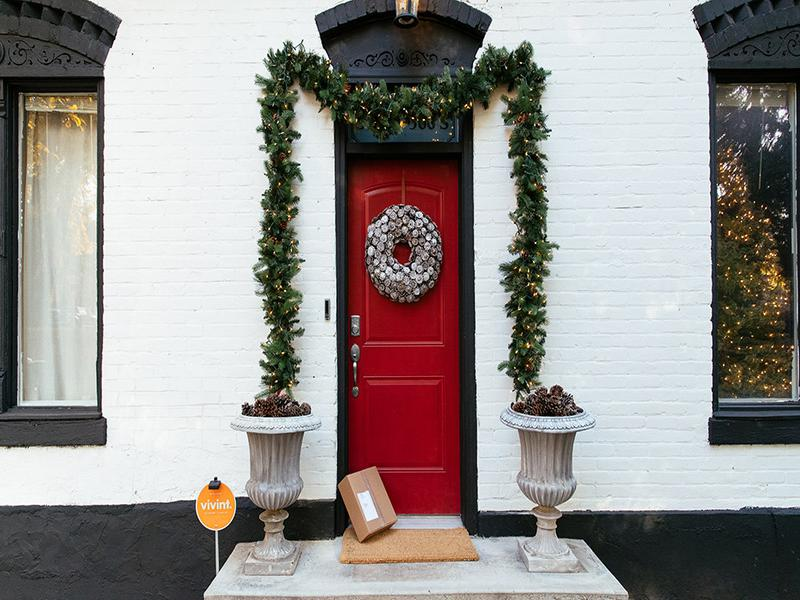package: (334, 457, 404, 548)
